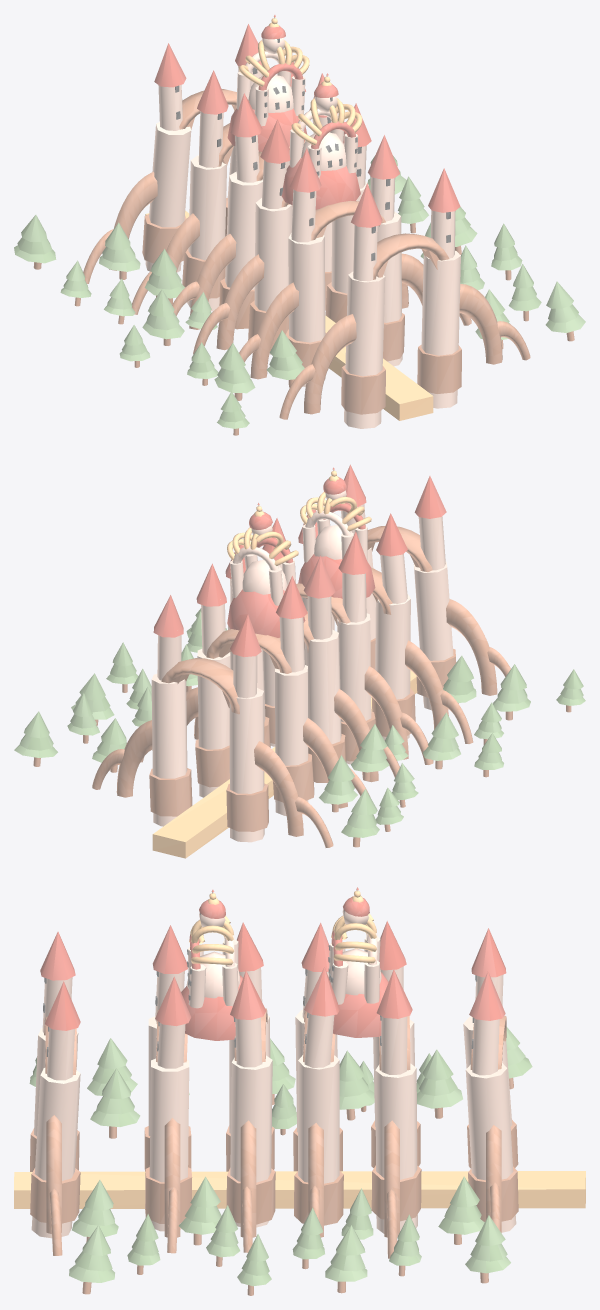
File: icky-snake.glb
3 views of the same model, one above another, from view 1: azimuth 30°, elevation 25°; view 2: azimuth 150°, elevation 25°; view 3: azimuth 270°, elevation 25° (orthographic). The views are drawn at different scales.
Size of the model in its own units: 30.73 by 21.57 by 33.84.
